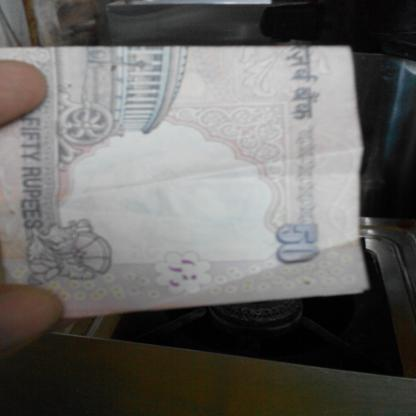Old50Back: (0, 44, 372, 319)
